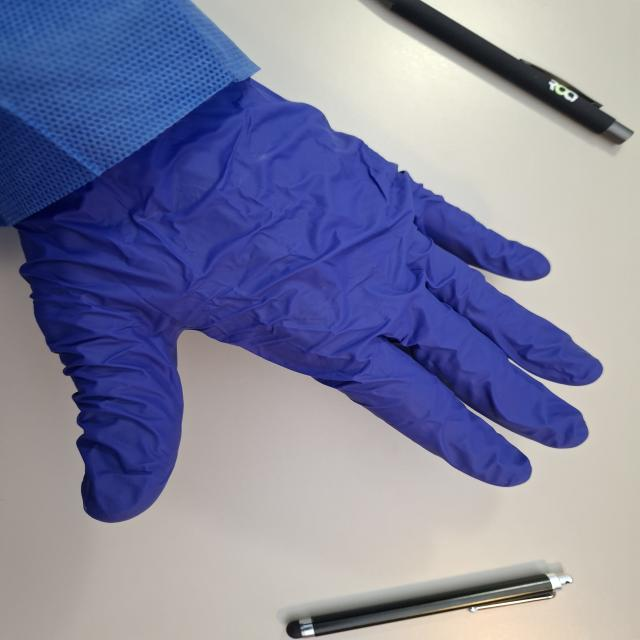glove_on: (8, 75, 606, 526)
